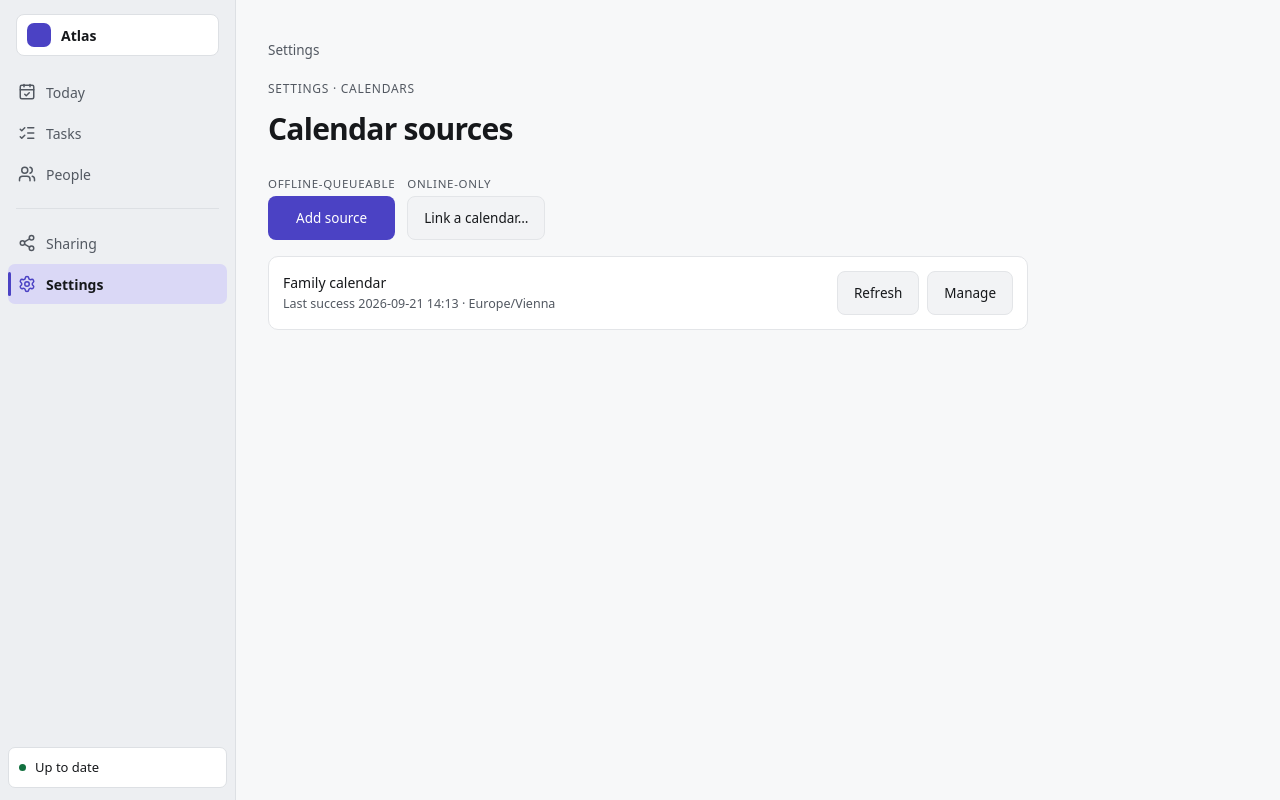
Test: Refresh (online-only, never queued) › 422 connection_unavailable: the cause's words and action, with no automatic retry
Check: the heading "Calendar sources" is shown, box [268, 108, 513, 149]
Click the button with aria-label "Refresh Family calendar" at (878, 293), box [837, 271, 919, 315]
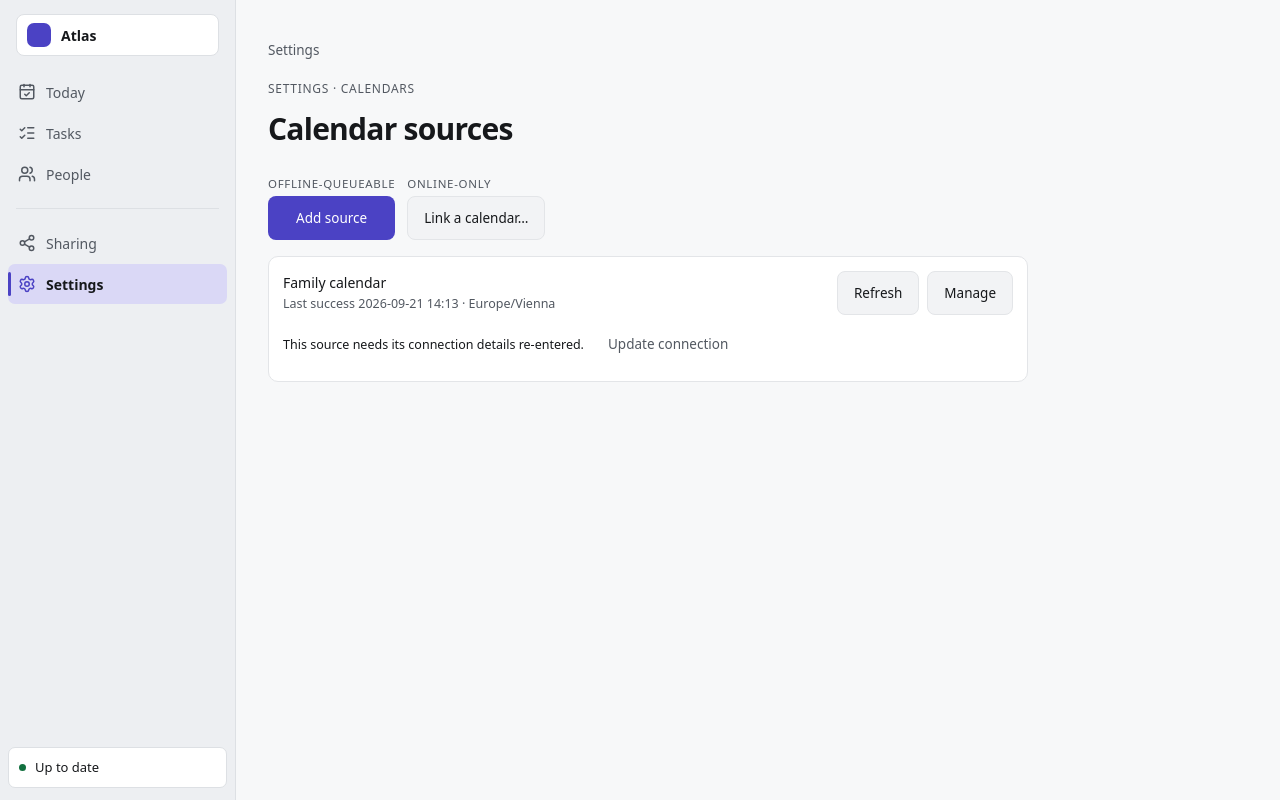
Check: the text "This source needs its connection details re-entered." is shown, box [283, 335, 584, 355]
Check: the button "Update connection" is shown, box [592, 323, 744, 367]
